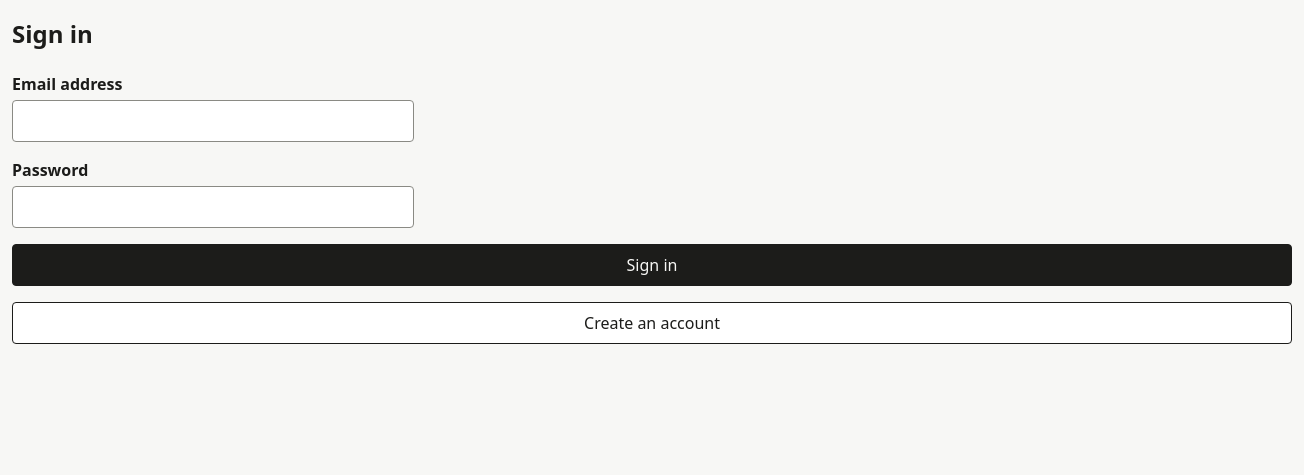
Scenario: Cognito sign-in screens › an unconfirmed account is taken to email confirmation
The image size is (1304, 475).
Step 1. Type "pilot.owner@example.test" into the field labelled "Email address" → (213, 121), box x1=12 y1=100 x2=414 y2=142
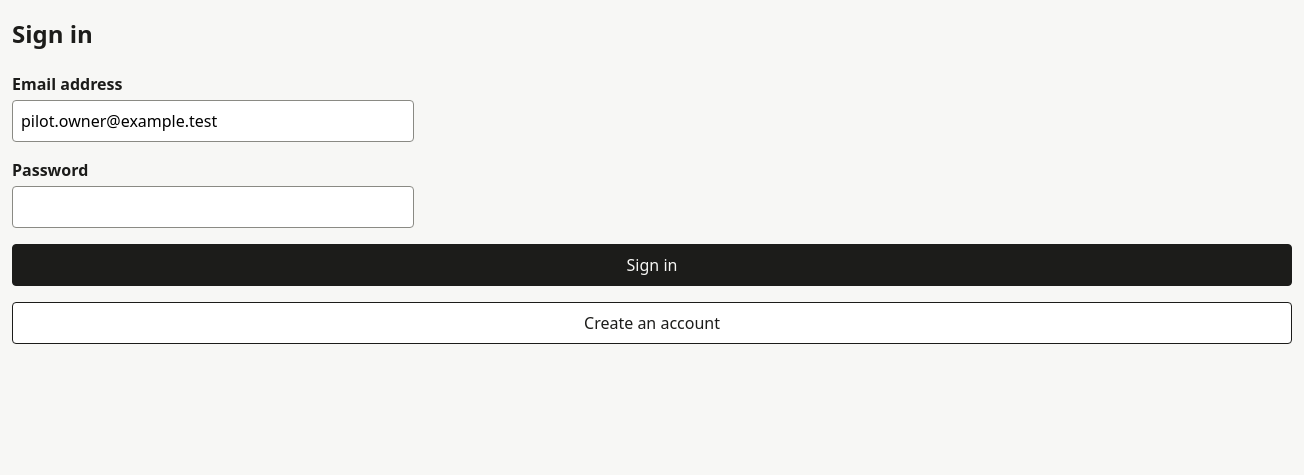
Step 2. Type "Passpass-1111" into the password field labelled "Password" → (213, 207), box x1=12 y1=186 x2=414 y2=228
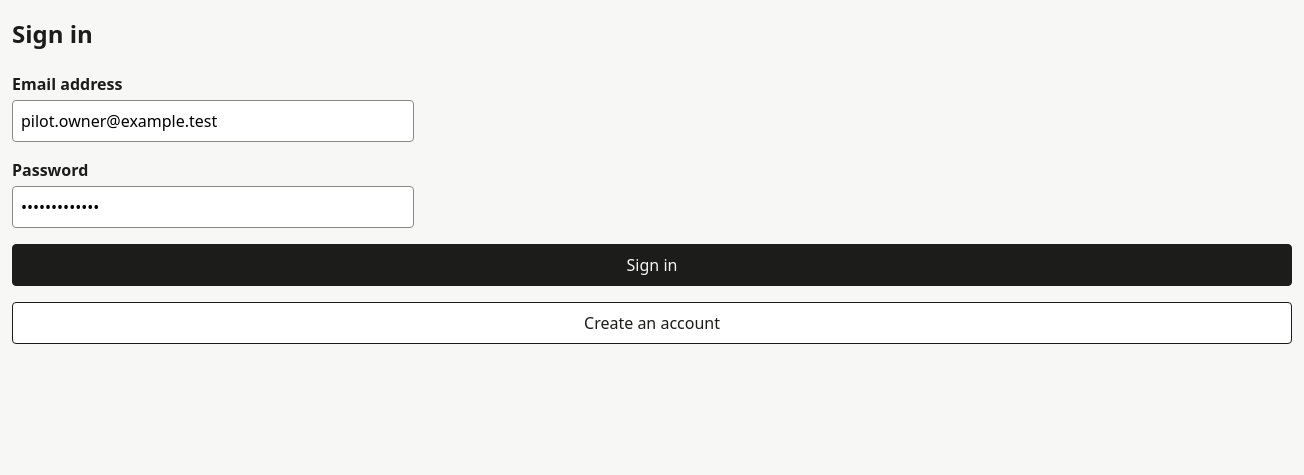
Step 3. Click the button "Sign in" → (652, 265), box x1=12 y1=244 x2=1292 y2=286
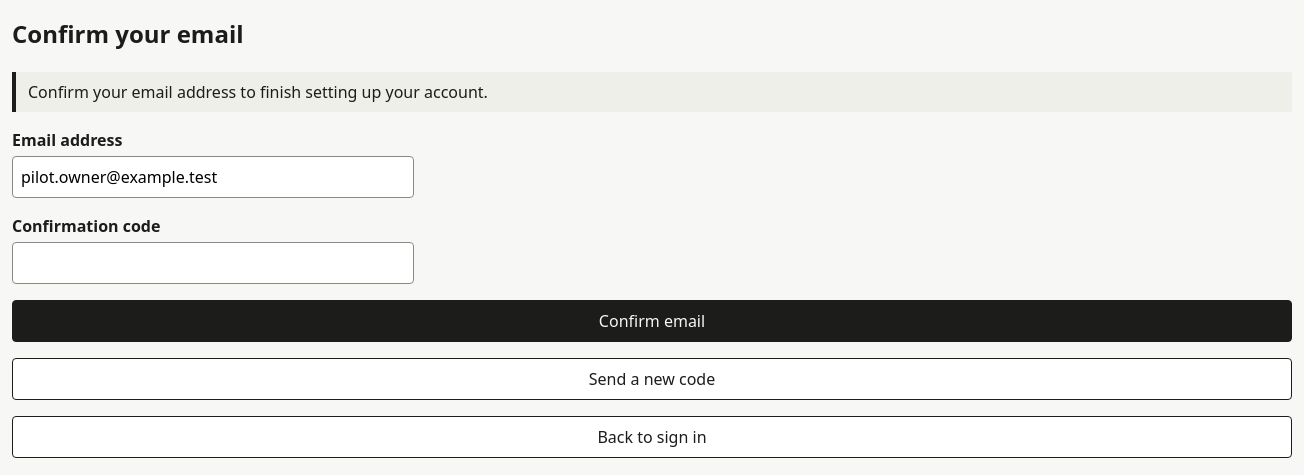
Expected: the heading "Confirm your email" is shown, x1=12 y1=17 x2=244 y2=50
